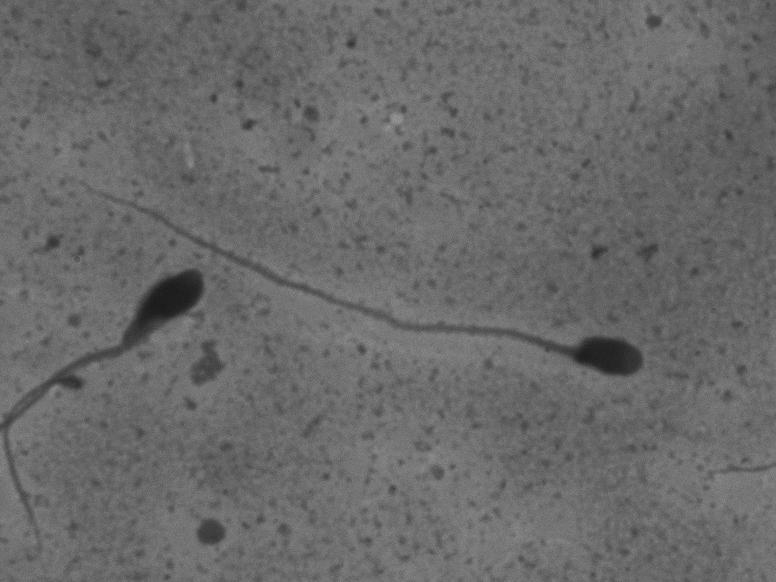Abnormal: (62, 161, 658, 392), (39, 252, 246, 404)
